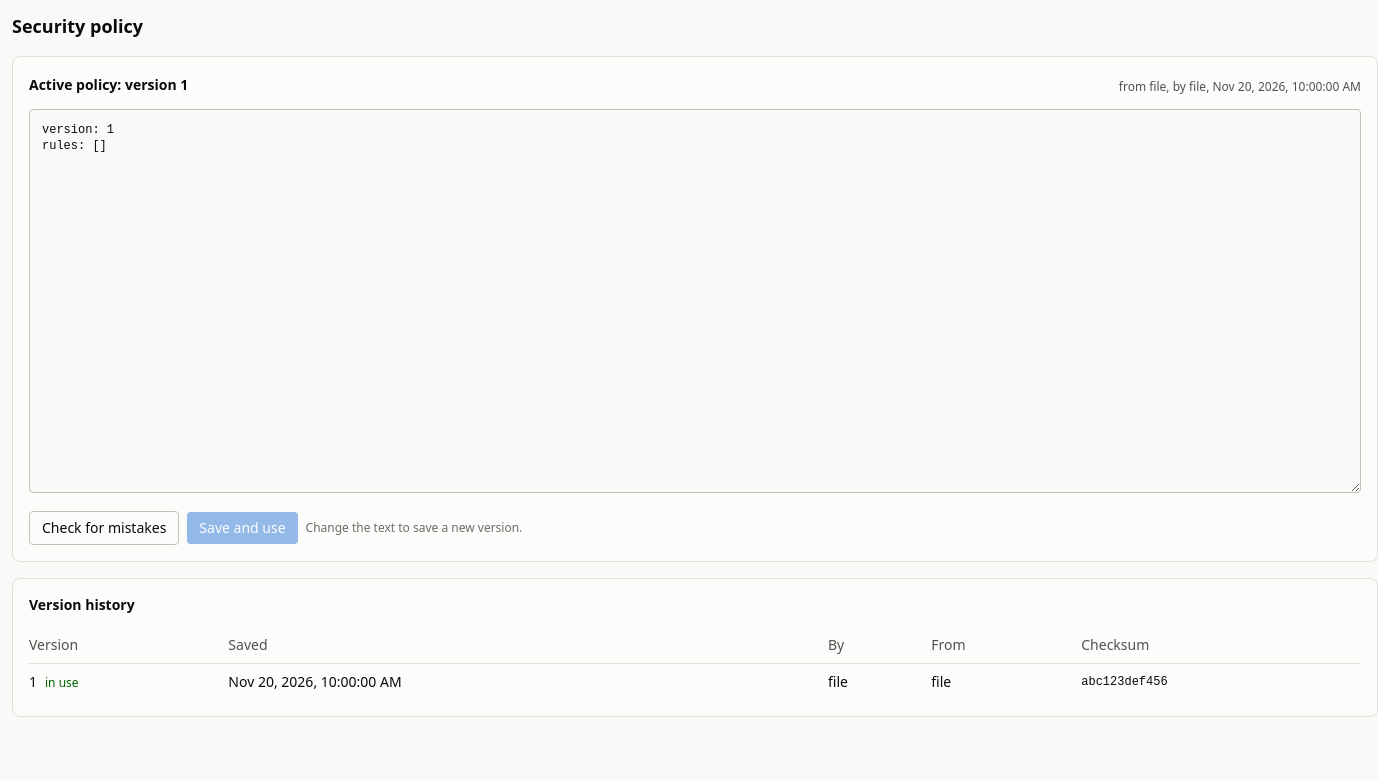
policy › can only save after a change
Later steps or results of the test are not shown.
Expected: the button "Save and use" is disabled, [187, 512, 298, 544]
Type "# note" into the text box named "Policy (YAML)" at (695, 301), box [29, 109, 1361, 493]
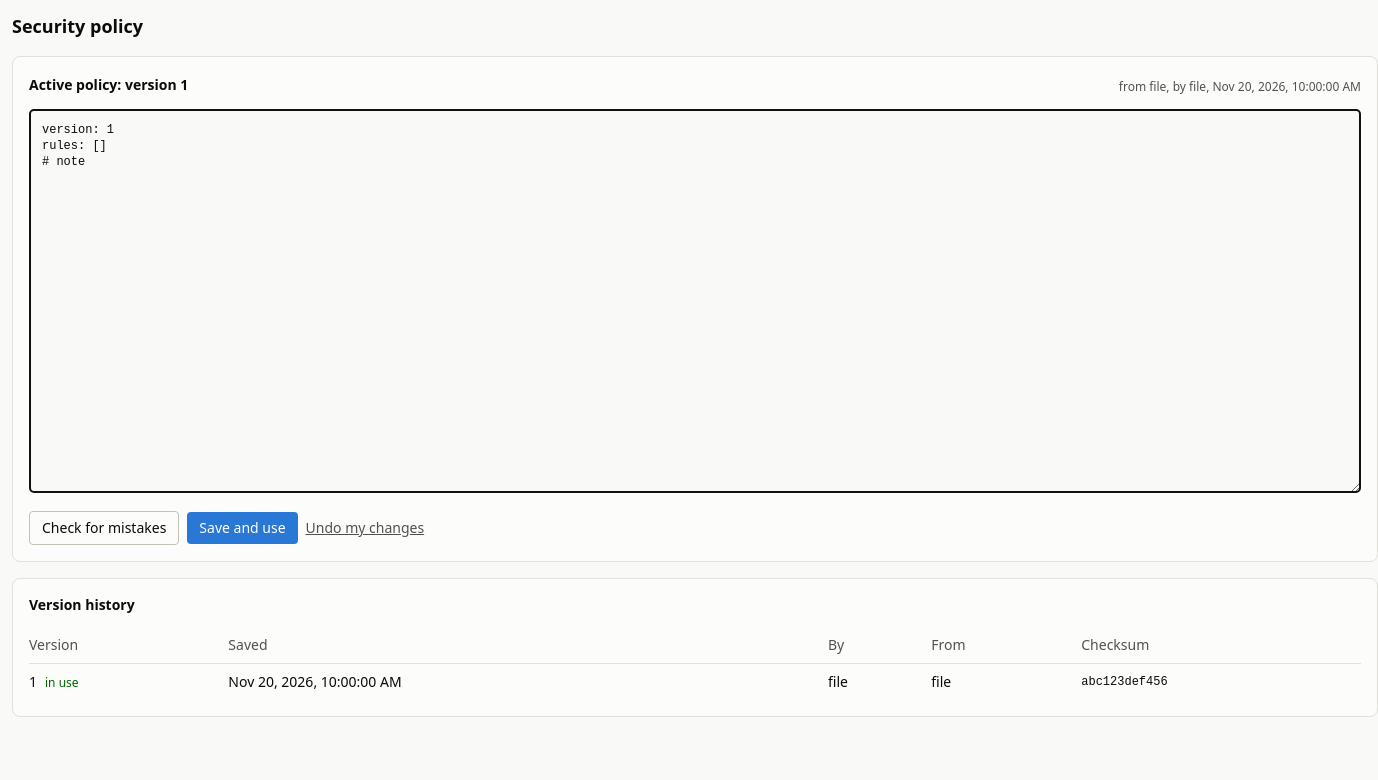
Now the button "Save and use" is enabled, box [187, 512, 298, 544]
